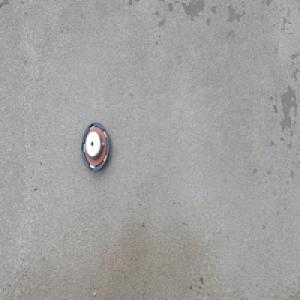FuelCap: (80, 119, 110, 173)
